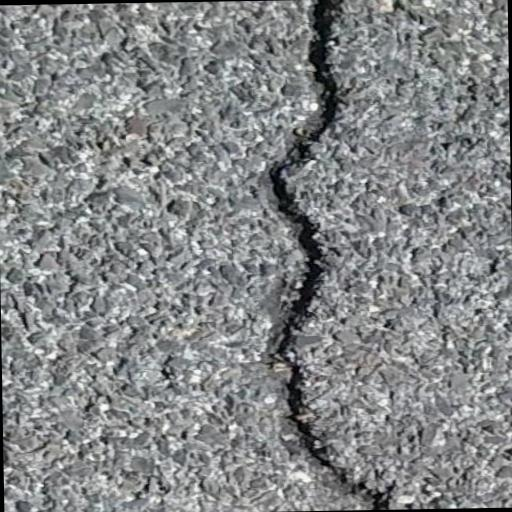spalling: (259, 1, 399, 507)
